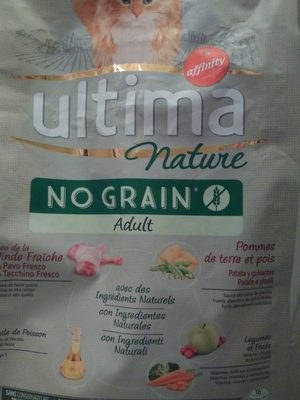ultima nature: (15, 20, 285, 380)
